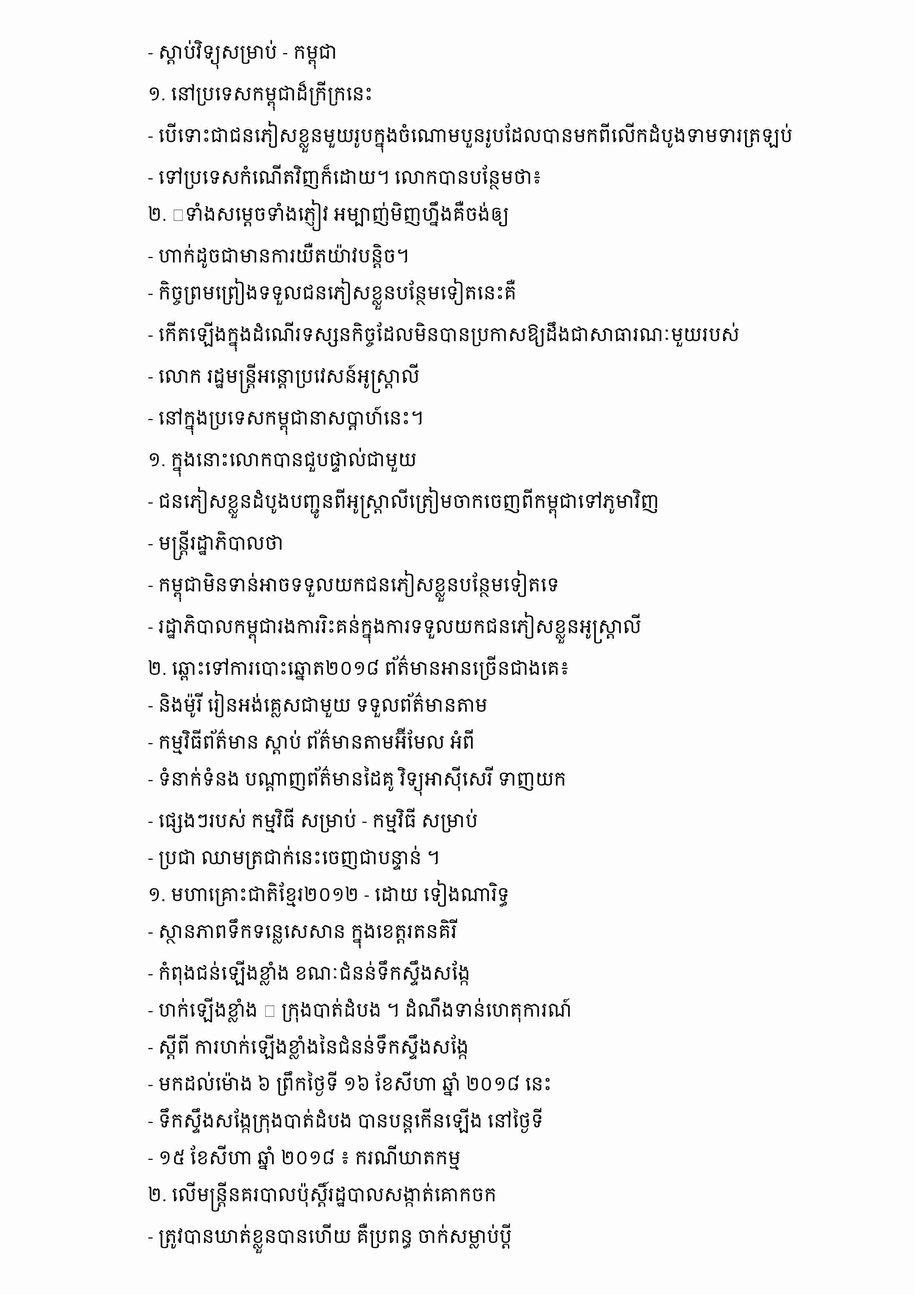text: (148, 121, 798, 153), (148, 322, 745, 352), (148, 487, 664, 519), (148, 612, 646, 644), (148, 570, 564, 602), (148, 766, 572, 796), (148, 278, 522, 310), (148, 199, 514, 231), (148, 1223, 517, 1254), (148, 997, 577, 1023), (148, 655, 574, 681), (148, 1181, 501, 1212), (148, 164, 547, 190), (148, 1071, 557, 1096), (148, 1108, 549, 1133), (148, 880, 515, 907), (148, 918, 462, 949), (148, 690, 493, 718), (148, 727, 480, 755), (148, 363, 425, 394), (148, 960, 475, 986), (148, 808, 483, 833), (148, 447, 422, 477), (148, 1034, 474, 1059), (148, 406, 428, 435), (148, 1145, 466, 1170), (148, 845, 445, 870), (148, 81, 378, 111), (148, 243, 414, 268), (148, 40, 342, 69), (148, 530, 289, 560)
